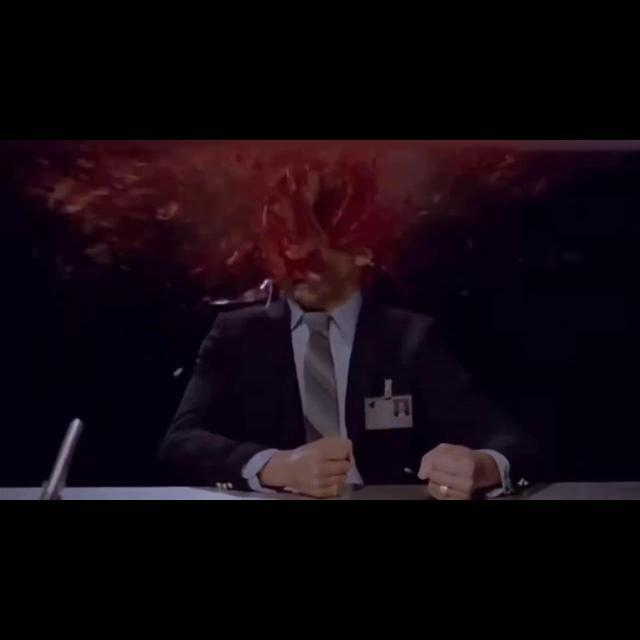blood: (24, 140, 548, 312)
